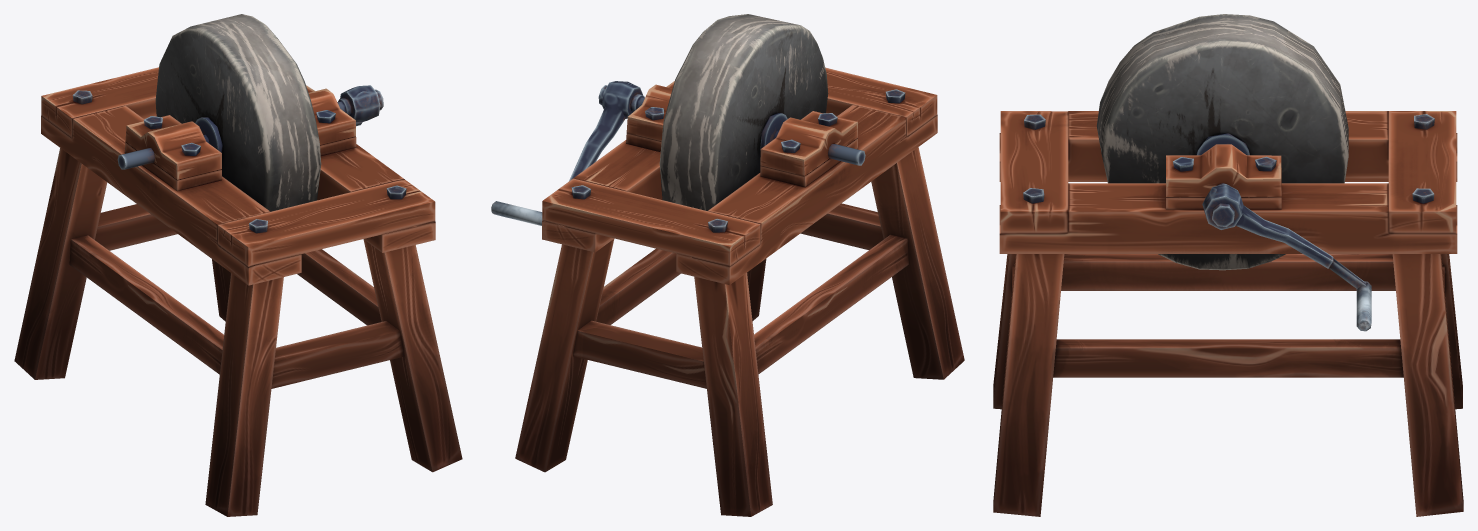
The model's file is toch_kamen.fbx.
3 renders of one model, left to right at view 1: azimuth 30°, elevation 25°; view 2: azimuth 150°, elevation 25°; view 3: azimuth 270°, elevation 25°, orthographic. The views are drawn at different scales.
Parts seen in each view (by area): view 1: toch_kamen; view 2: toch_kamen; view 3: toch_kamen.
Boxes of the visible parts, left/top/right/bottom form: toch_kamen: left=14, top=14, right=462, bottom=516; toch_kamen: left=491, top=14, right=964, bottom=516; toch_kamen: left=993, top=14, right=1463, bottom=516.
Size of the model in its own units: 89.58 by 110 by 109.
